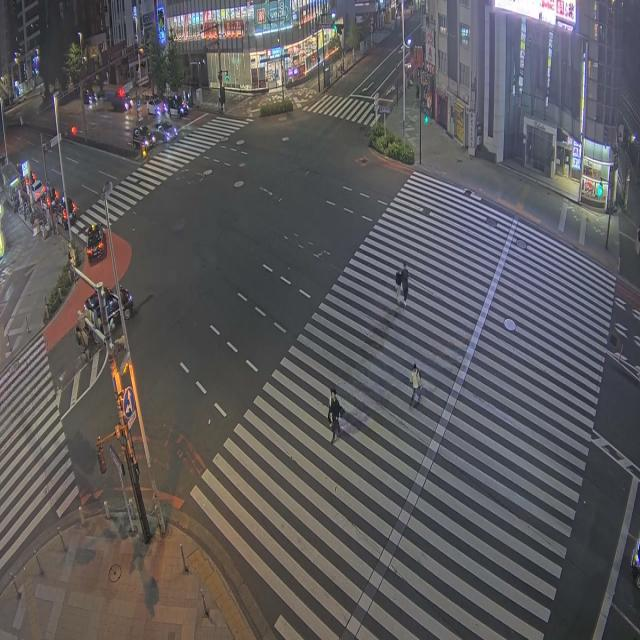car: (86, 224, 106, 262), (104, 288, 119, 325), (132, 126, 155, 148), (153, 121, 177, 142), (168, 96, 188, 117), (147, 98, 167, 116), (55, 204, 68, 228), (61, 195, 77, 214), (32, 180, 45, 201), (83, 89, 97, 106)
